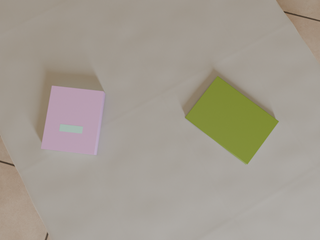book: (185, 76, 279, 164), (41, 86, 105, 155)
